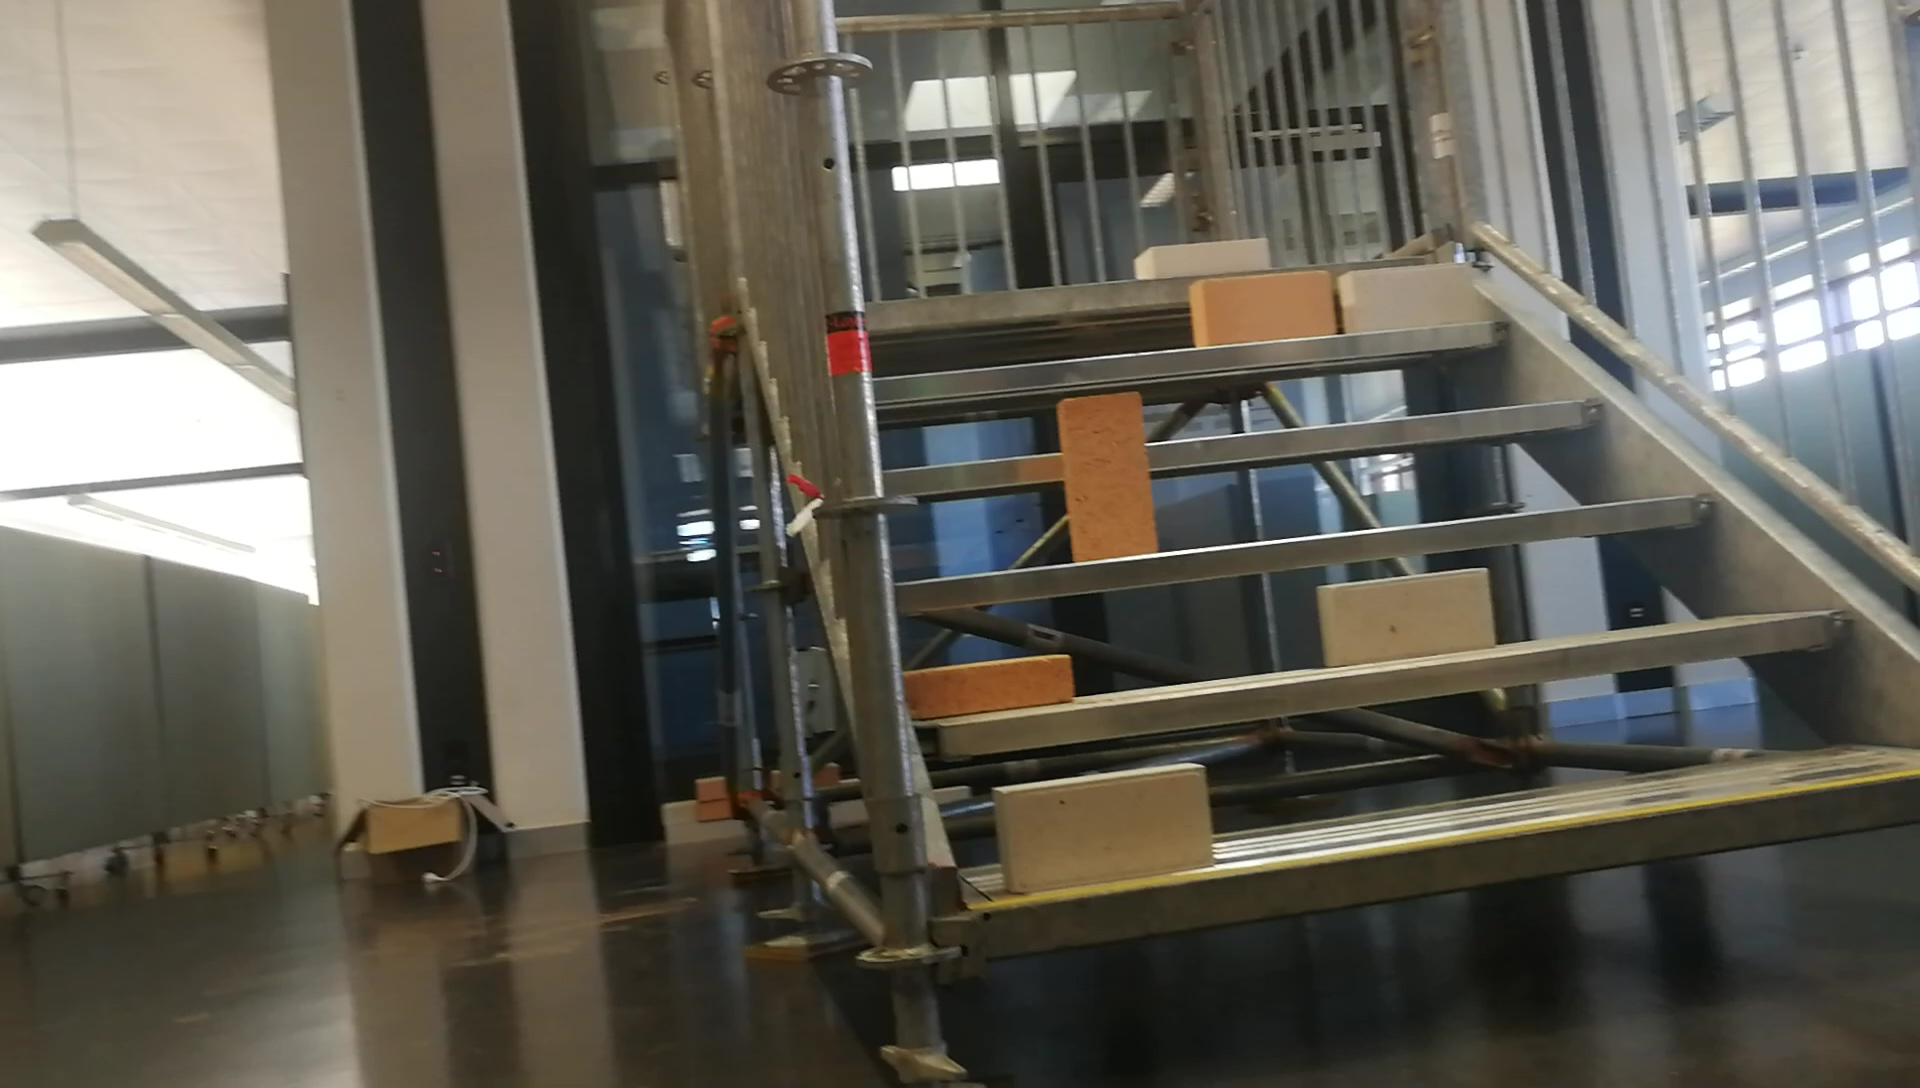brick: (993, 760, 1208, 888), (1317, 568, 1491, 666), (1060, 390, 1156, 560), (1192, 270, 1328, 346), (902, 655, 1069, 715), (1338, 265, 1472, 335), (1135, 243, 1269, 278)
edge: (986, 753, 1917, 960), (924, 609, 1840, 760), (893, 491, 1717, 609), (887, 398, 1607, 485), (873, 320, 1507, 393)
stairs: (835, 5, 1920, 1085)
